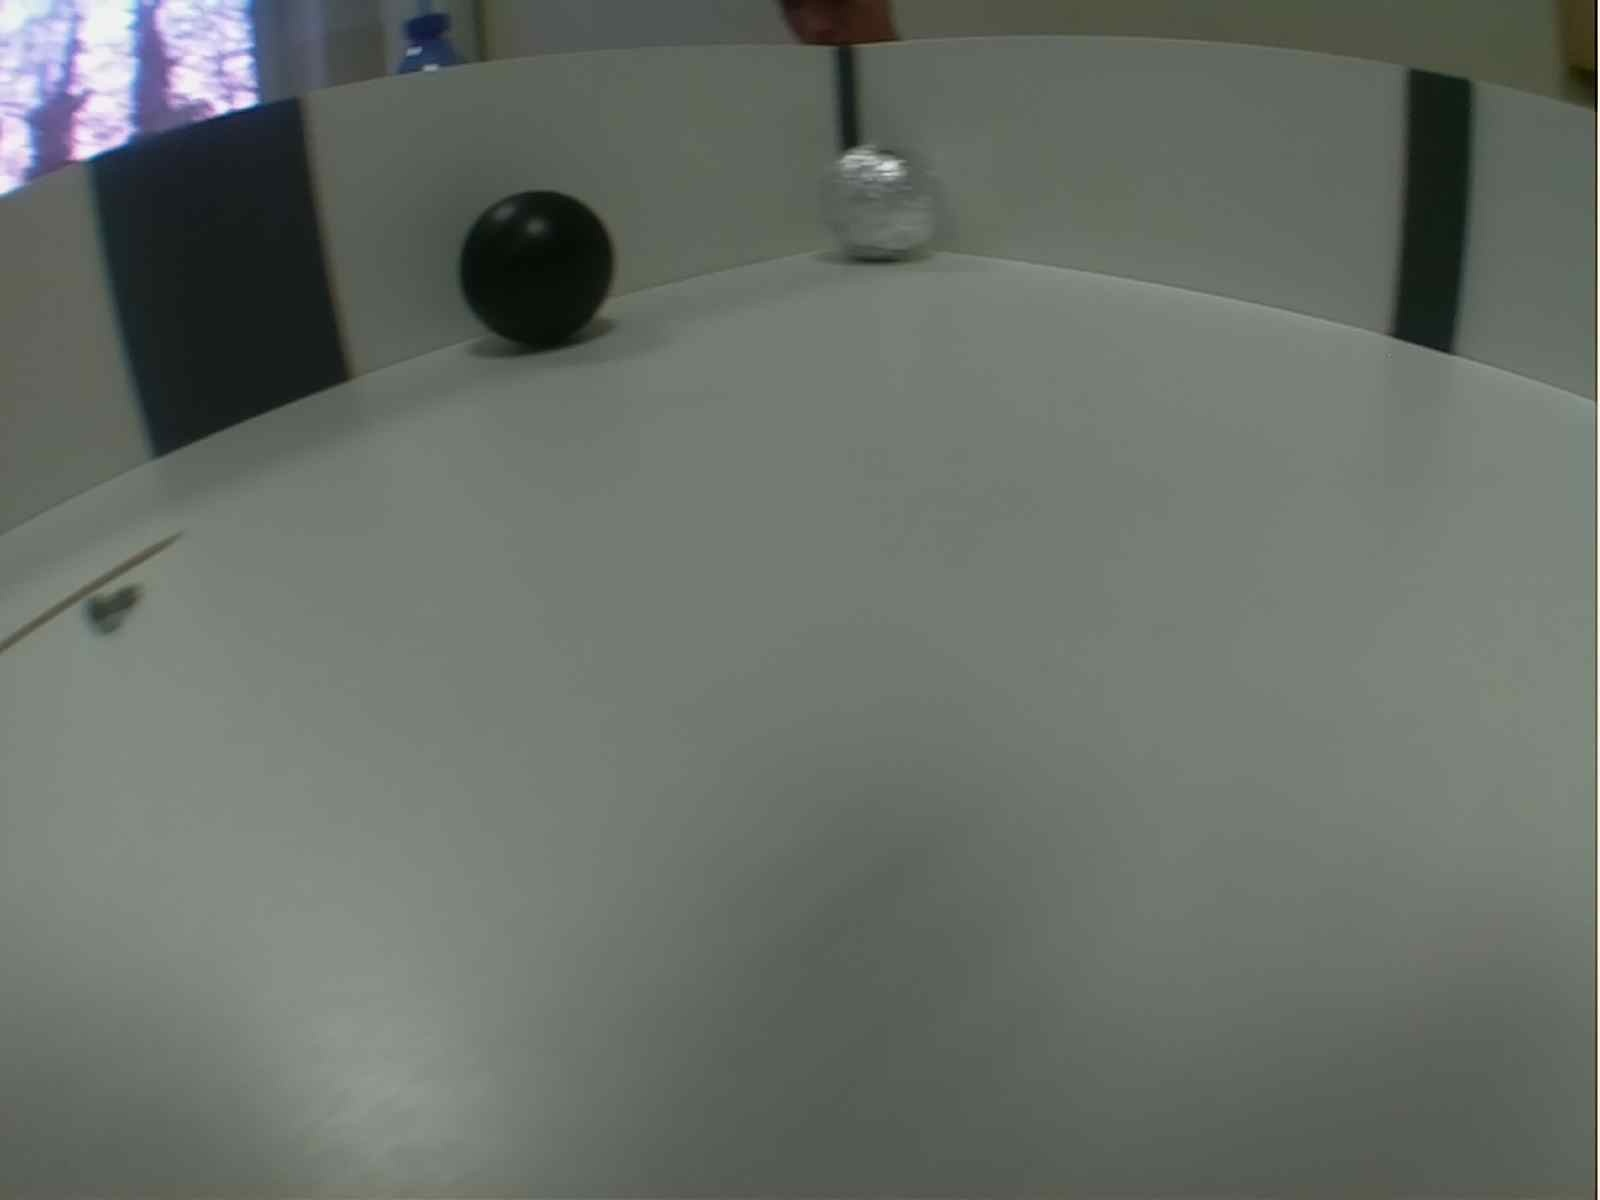bianca: (813, 141, 939, 267)
nera: (454, 188, 619, 352)
